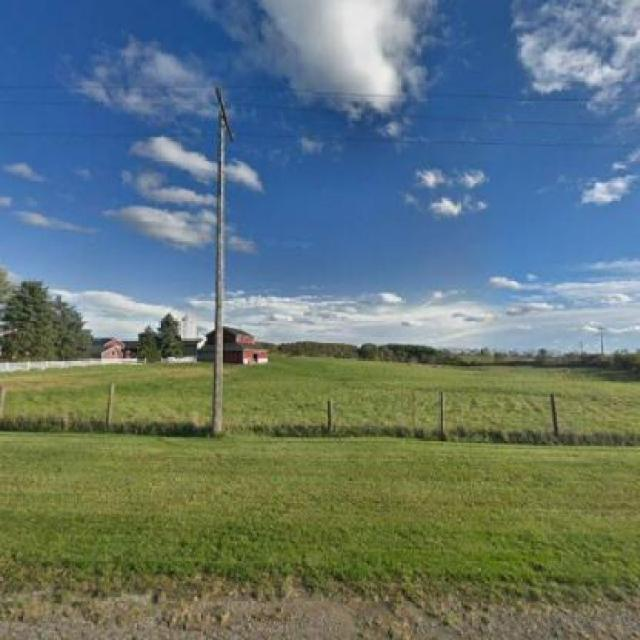pole: (187, 71, 259, 432)
